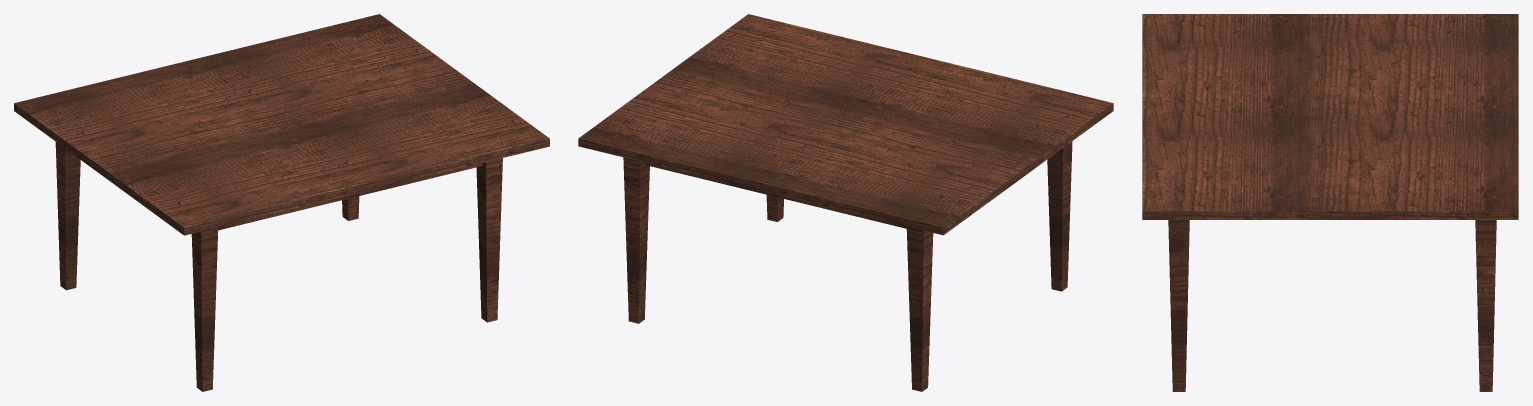
The model's file is desk.obj.
3 renders of one model, left to right at view 1: azimuth 30°, elevation 25°; view 2: azimuth 150°, elevation 25°; view 3: azimuth 270°, elevation 25°, orthographic. The views are drawn at different scales.
Size of the model in its own units: 308 by 147 by 248.
Materials: 1 (1 with a texture image).
